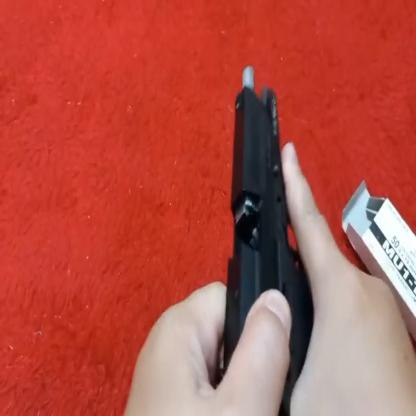handgun: (228, 62, 305, 373)
